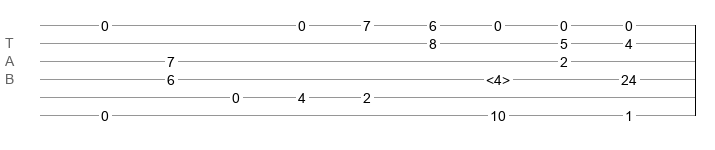0: (101, 108, 109, 118), (101, 18, 109, 28), (232, 90, 240, 100), (298, 18, 306, 28), (494, 18, 502, 28), (560, 18, 568, 28), (625, 18, 633, 28)
1: (625, 108, 633, 118)
10: (490, 108, 506, 118)
2: (363, 90, 371, 100), (560, 54, 568, 64)
24: (621, 72, 637, 82)
4: (298, 90, 306, 100), (625, 36, 633, 46)
5: (560, 36, 568, 46)
6: (167, 72, 175, 82), (429, 18, 437, 28)
7: (167, 54, 175, 64), (363, 18, 371, 28)
8: (429, 36, 437, 46)
harmonic: (486, 72, 510, 82)
